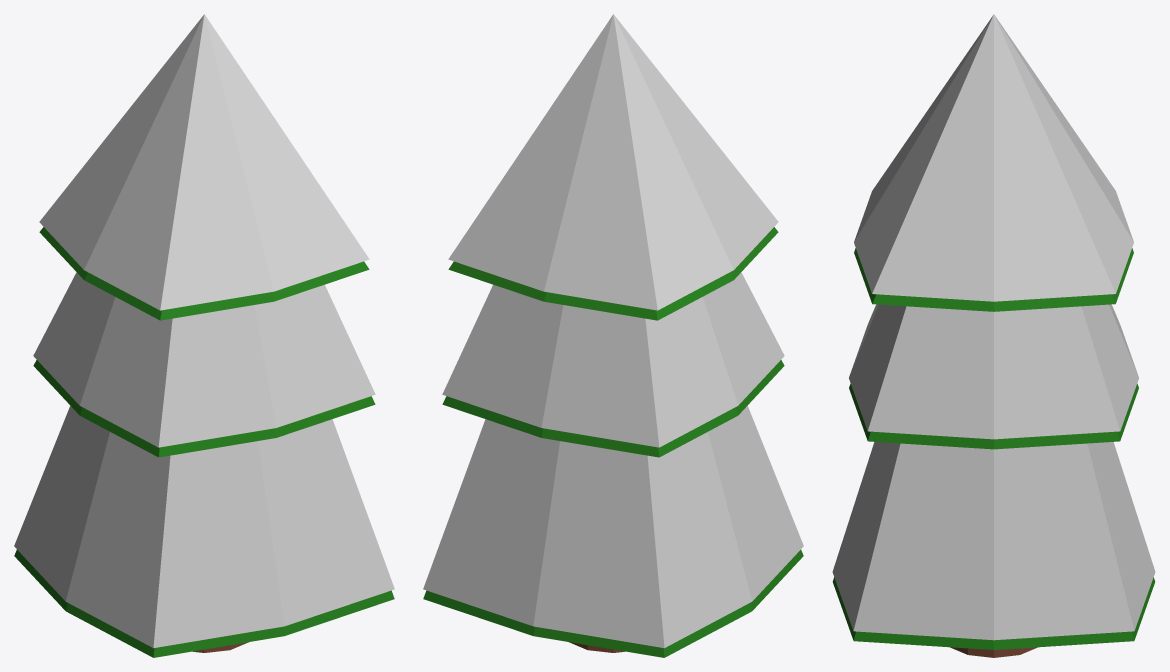
Rendered from Tree_23_winter_mat.fbx.
3 views of the same model, side by side, from view 1: azimuth 30°, elevation 25°; view 2: azimuth 150°, elevation 25°; view 3: azimuth 270°, elevation 25° (orthographic).
Parts seen in each view (by area): view 1: Tree_23_winter_mat; view 2: Tree_23_winter_mat; view 3: Tree_23_winter_mat.
Boxes of the visible parts, x1,y1,x2,y2 form: Tree_23_winter_mat: (14,14,394,657); Tree_23_winter_mat: (423,14,803,657); Tree_23_winter_mat: (832,14,1155,657).
Size of the model in its own units: 90.18 by 192 by 90.18.
